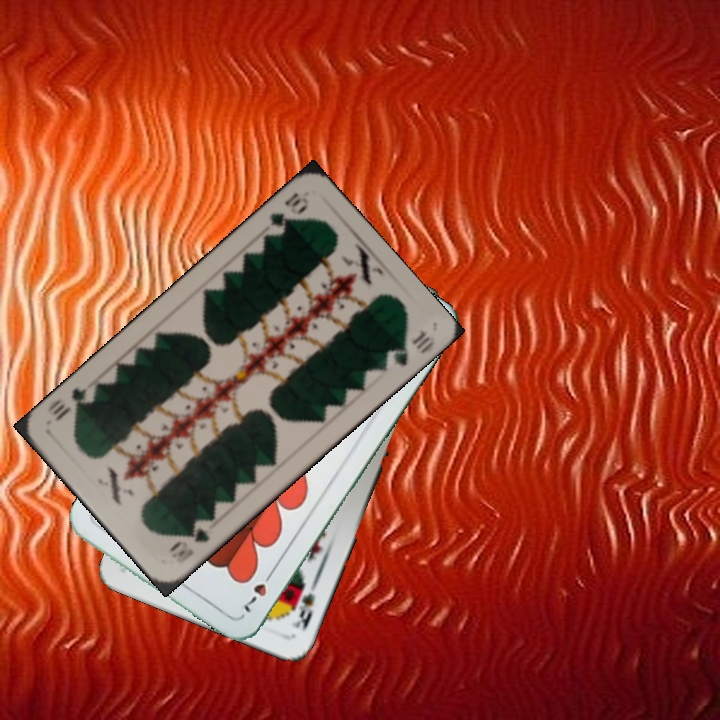G10: (261, 188, 311, 234), (167, 522, 213, 566)
H7: (239, 565, 278, 616)
SK: (287, 579, 319, 635)
